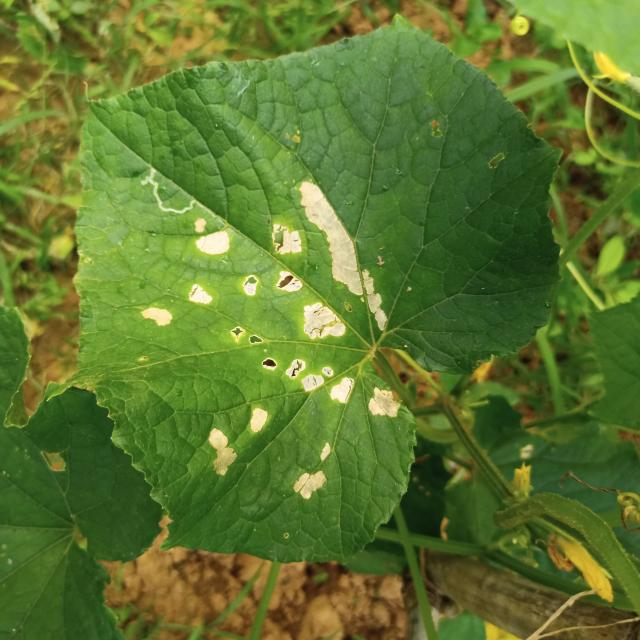disease_cucumber: (264, 177, 398, 344), (124, 217, 273, 350), (222, 318, 403, 421), (204, 404, 337, 506)
